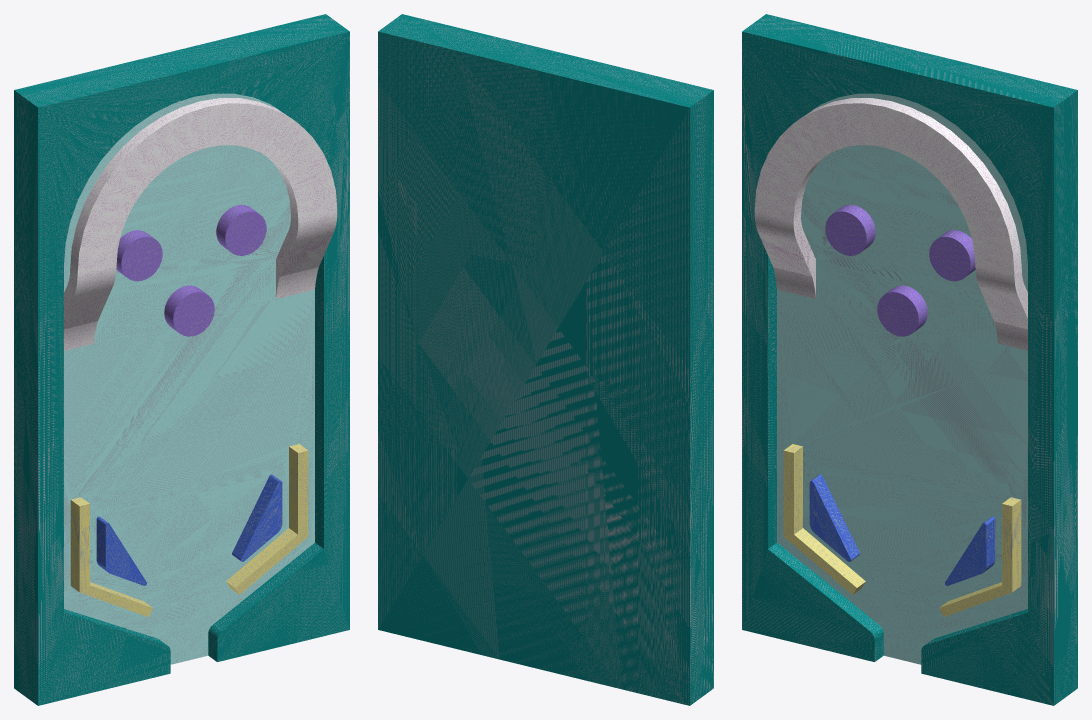
3 views of the same model, side by side, from view 1: azimuth 30°, elevation 25°; view 2: azimuth 150°, elevation 25°; view 3: azimuth 330°, elevation 25° (orthographic).
Visible parts, largest first — view 1: SketchUp (×10); view 2: SketchUp; view 3: SketchUp (×10).
Part boxes in pixels (x1,y1,x2,y2): SketchUp (×10): [14, 14, 349, 705]; SketchUp: [378, 14, 713, 705]; SketchUp (×10): [742, 14, 1077, 705].
Size of the model in its own units: 2362 by 492 by 4331.
